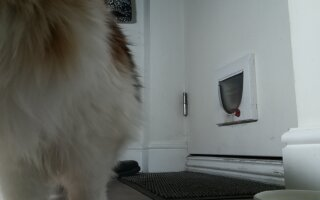clara: (3, 3, 141, 197)
